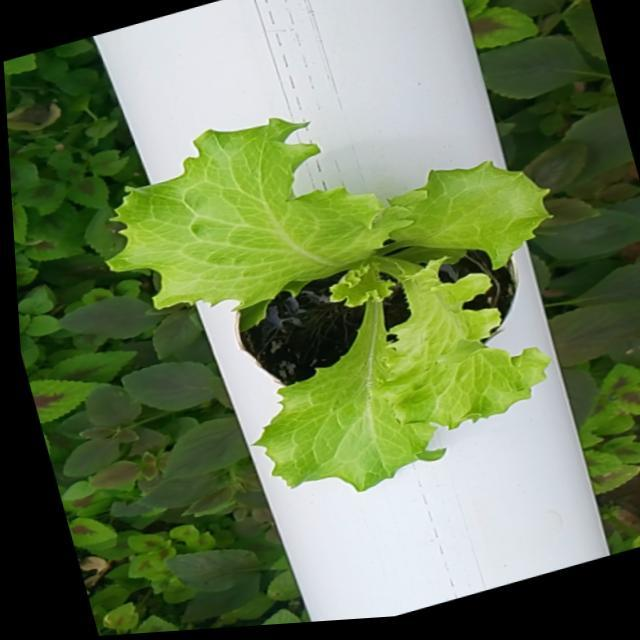Baby: (109, 118, 551, 491)
